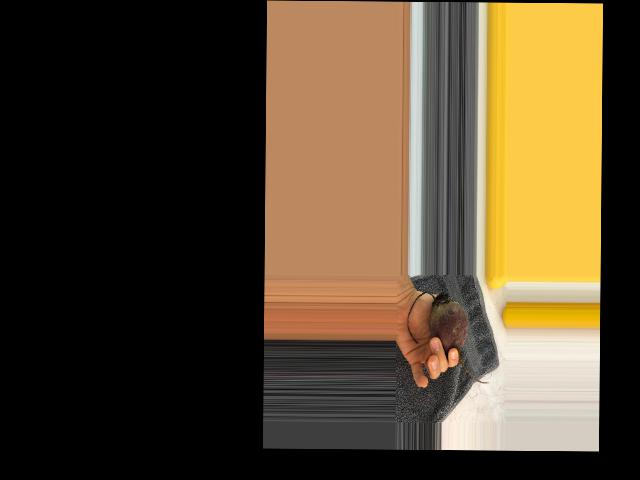beet: (406, 292, 489, 383)
